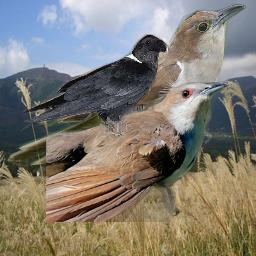Crow: (20, 34, 172, 142)
Cuckoo: (6, 3, 246, 165), (46, 82, 228, 222)
